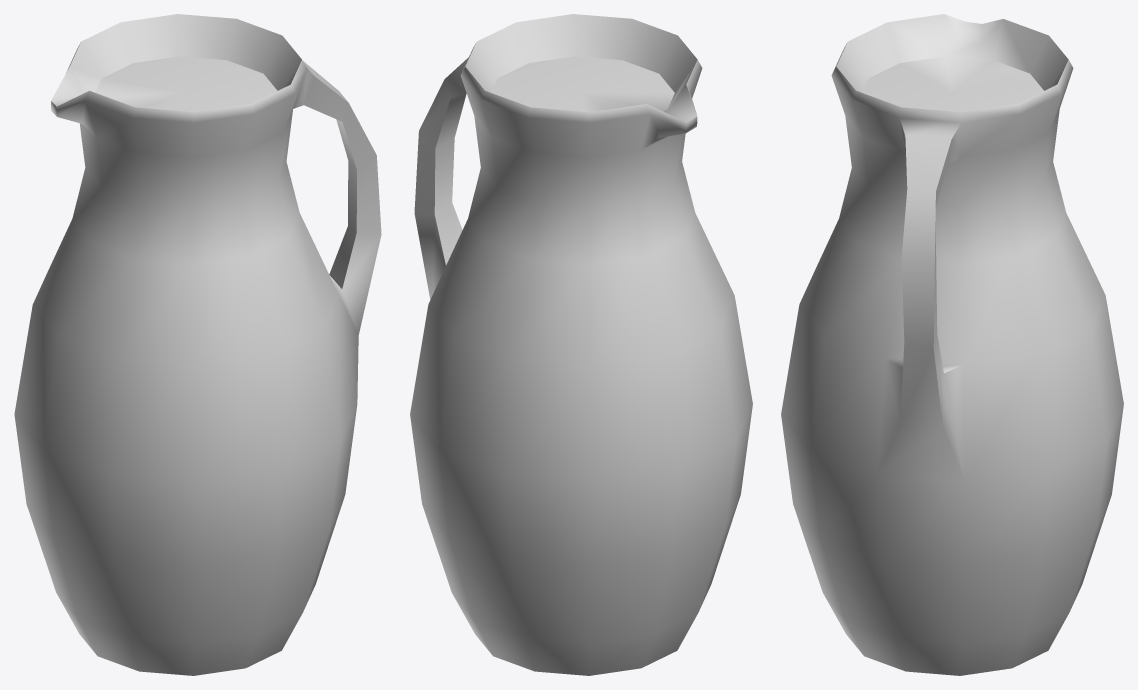
Rendered from PT_Pot_22.fbx.
3 views of the same model, side by side, from view 1: azimuth 30°, elevation 25°; view 2: azimuth 150°, elevation 25°; view 3: azimuth 270°, elevation 25° (orthographic).
Parts seen in each view (by area): view 1: PT_Pot_22; view 2: PT_Pot_22; view 3: PT_Pot_22.
Part boxes in pixels (x1,y1,x2,y2): PT_Pot_22: (14,14,381,675); PT_Pot_22: (410,14,752,675); PT_Pot_22: (781,14,1123,675).
Size of the model in its own units: 15.53 by 25.94 by 14.19.
Materials: 1 (1 with a texture image).
